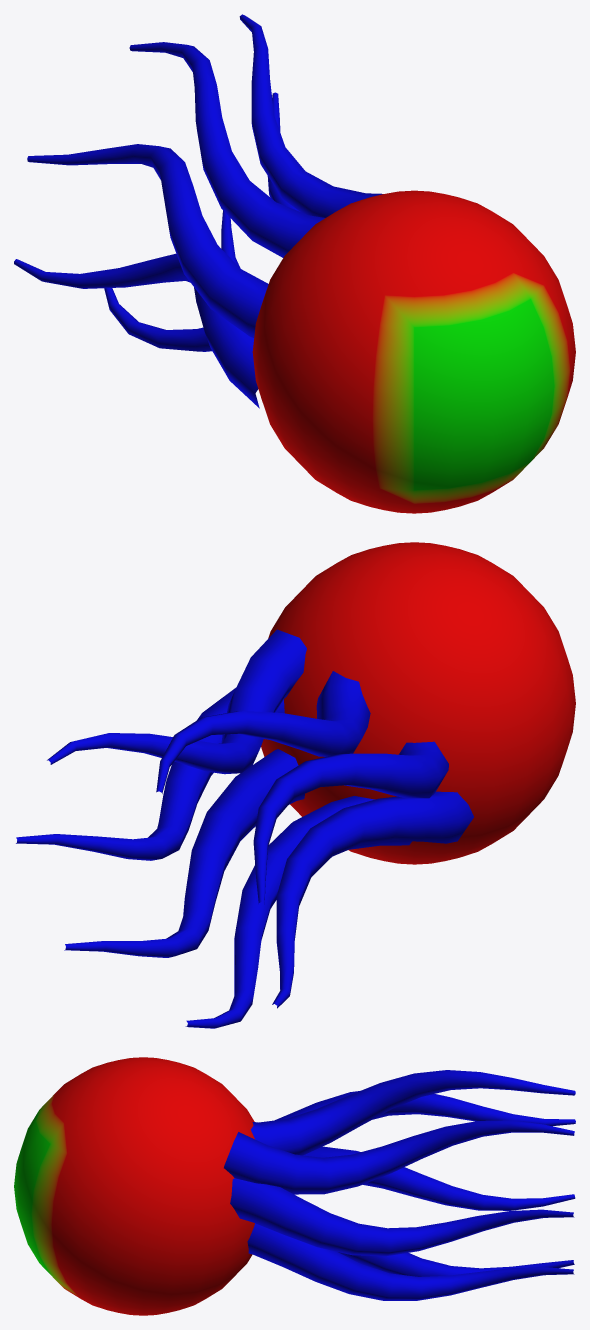
Rendered from fish_eyeball.glb.
3 views of the same model, one above another, from view 1: azimuth 30°, elevation 25°; view 2: azimuth 150°, elevation 25°; view 3: azimuth 270°, elevation 25° (orthographic). The views are drawn at different scales.
Parts seen in each view (by area): view 1: Body; view 2: Body; view 3: Body.
Part boxes in pixels (<box>): Body: <box>14,14,575,513</box>; Body: <box>16,542,575,1028</box>; Body: <box>14,1057,575,1315</box>.
Size of the model in its own units: 0.6 by 0.6 by 1.3.
